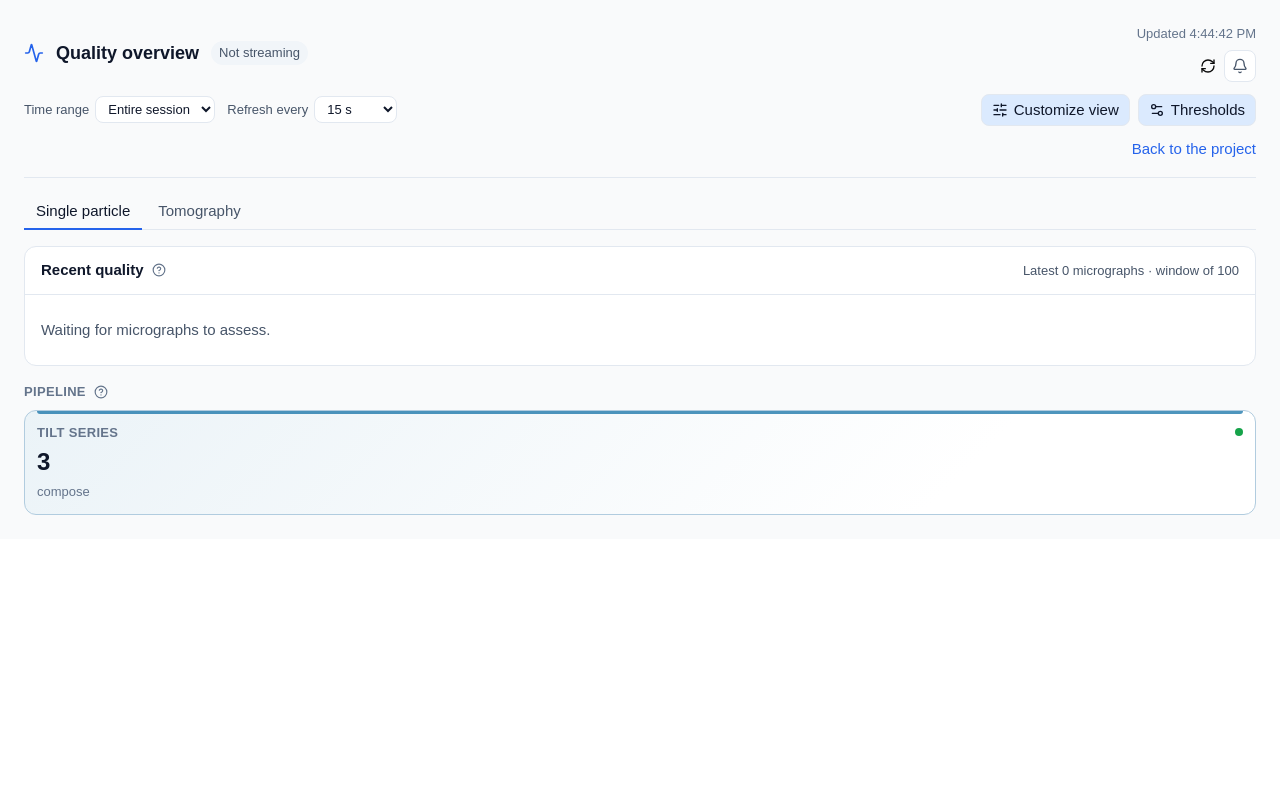
Test: The tomography view of the monitor › uses the active view for the streaming badge (tomography streaming: true)
Expected: the text "Not streaming" is shown, [211,41,308,64]
Click the tab "Tomography": (199, 212) [146,194,253,230]
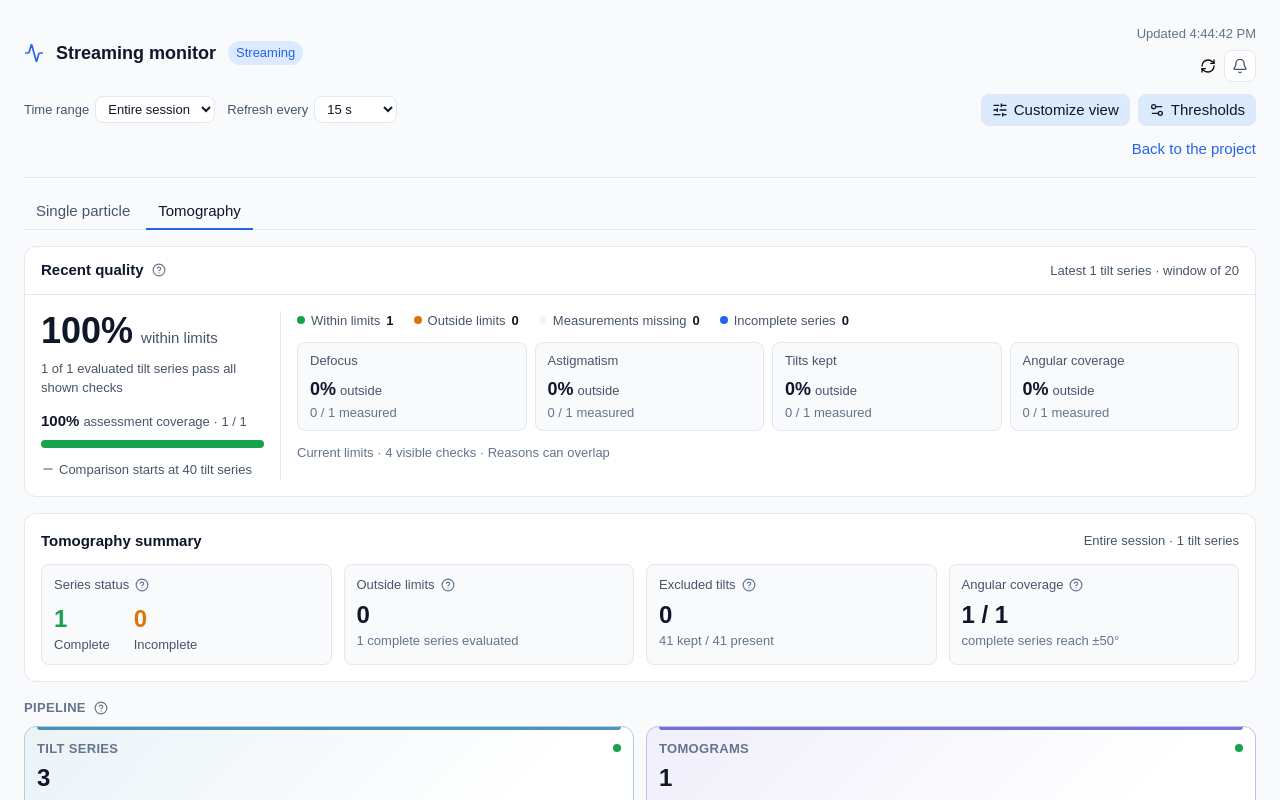
Expected: the text "Streaming" is shown, [228,41,303,64]
Expected: the heading "Streaming monitor" is shown, [56,39,216,67]
Click the tab "Single particle": (83, 212) [24,194,142,230]
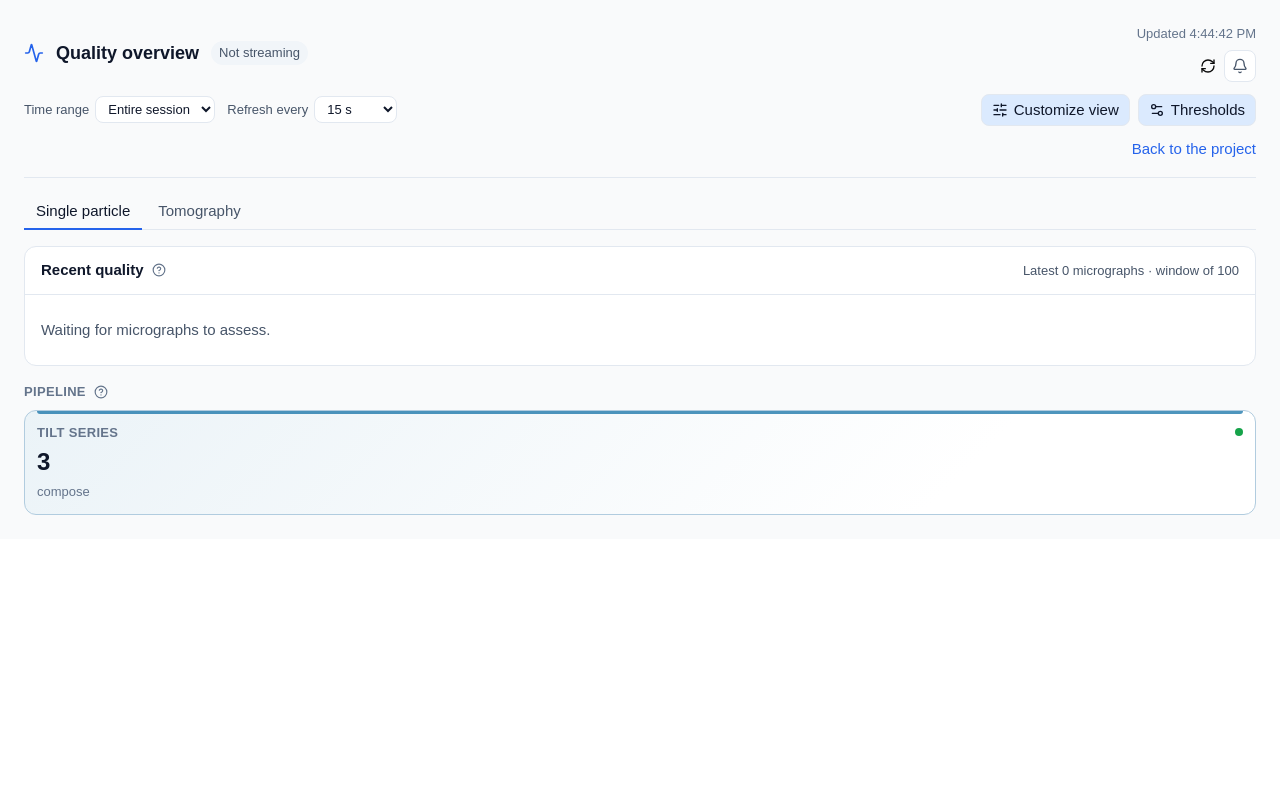
Expected: the text "Not streaming" is shown, [211,41,308,64]
